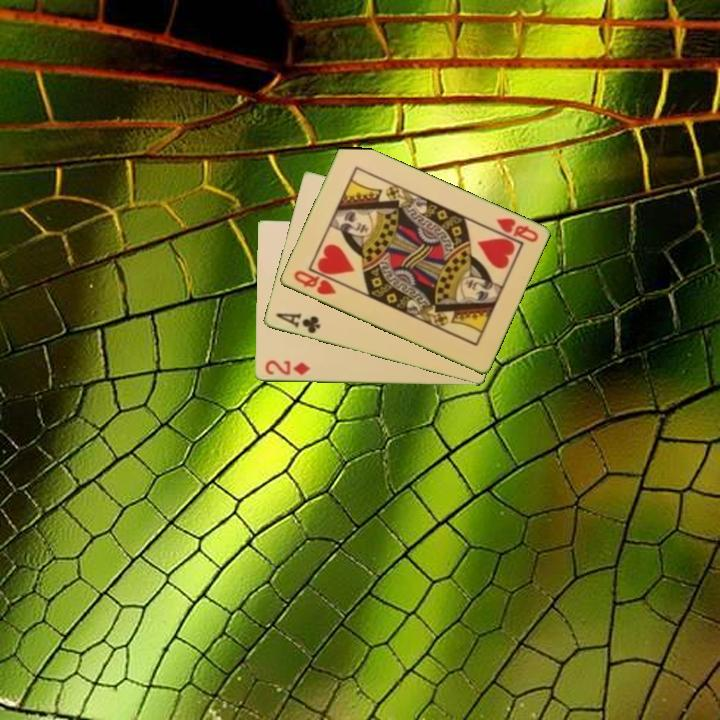2d: (261, 357, 313, 378)
Ac: (272, 309, 323, 337)
Qh: (492, 214, 541, 246), (290, 267, 338, 298)
